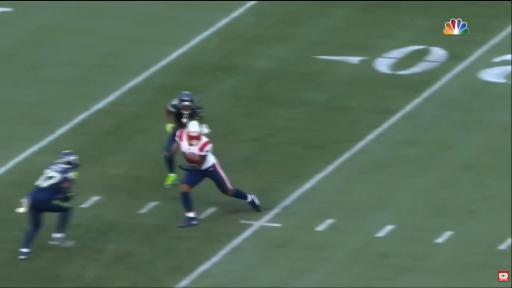Helmet: (55, 151, 79, 168), (186, 121, 202, 145), (178, 92, 194, 112)
Jersey: (31, 164, 76, 201), (176, 130, 216, 169), (167, 99, 202, 128)
Player: (174, 121, 260, 227), (19, 151, 79, 259), (165, 92, 202, 187)
